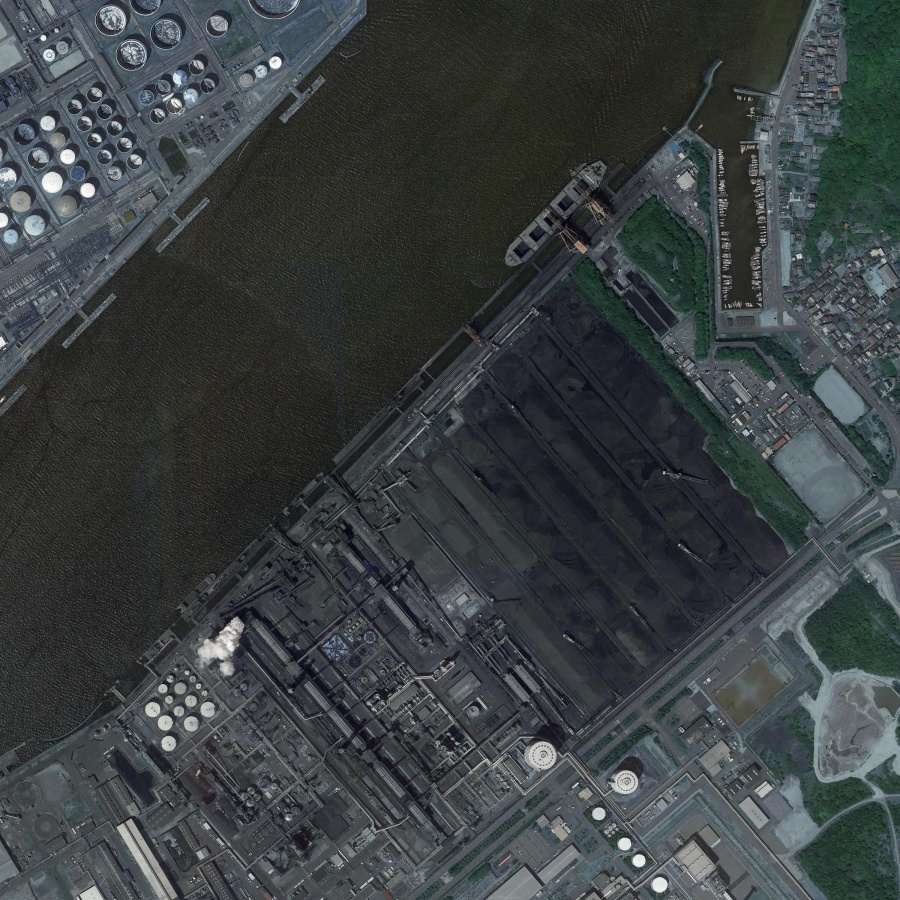PowerPlant: (416, 288, 802, 682)
